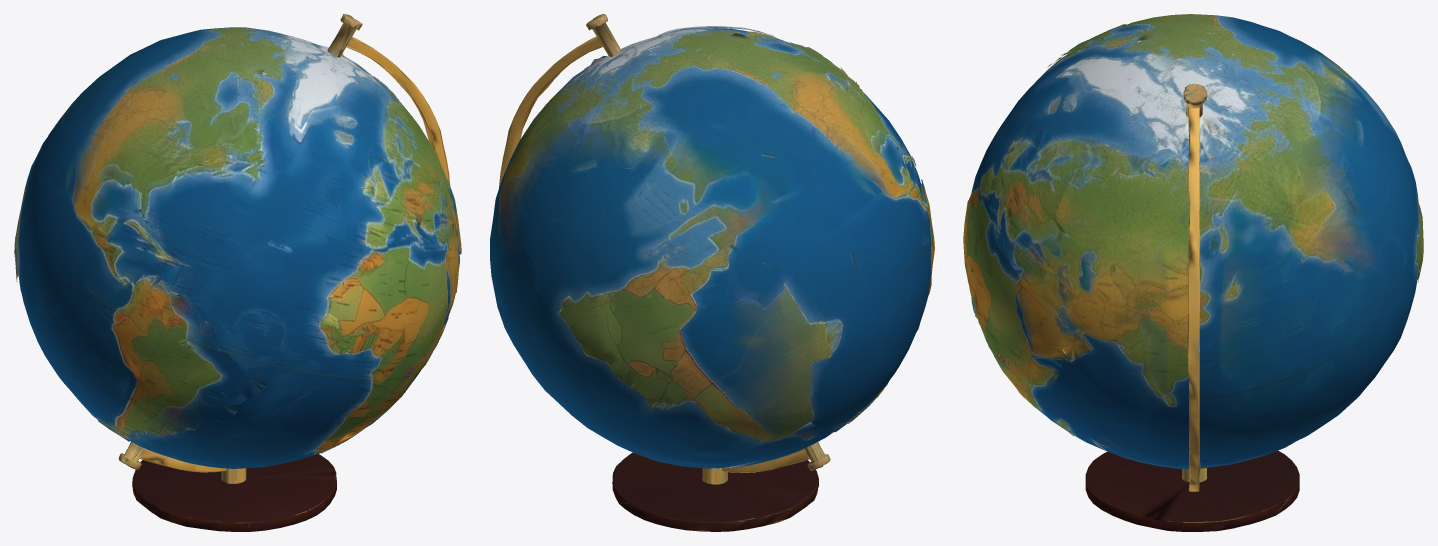
The model's file is globe.glb.
3 renders of one model, left to right at view 1: azimuth 30°, elevation 25°; view 2: azimuth 150°, elevation 25°; view 3: azimuth 270°, elevation 25°, orthographic. The views are drawn at different scales.
Bounding box in the file's own units: 0.8969 × 0.9512 × 0.8637.
Materials: 1 (1 with a texture image).
